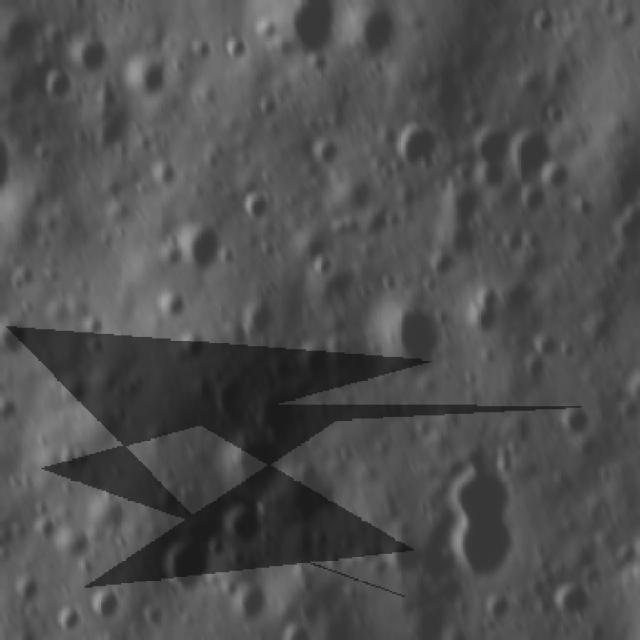crater: (438, 454, 518, 600), (372, 287, 451, 382), (220, 430, 292, 498), (388, 108, 454, 172), (171, 212, 237, 276), (248, 378, 310, 440), (552, 567, 606, 633), (153, 538, 213, 597), (126, 46, 176, 103), (147, 286, 196, 332), (555, 394, 597, 444), (222, 499, 263, 548), (33, 61, 76, 107), (52, 521, 100, 562), (70, 33, 112, 76), (170, 330, 215, 370), (232, 580, 271, 625), (419, 246, 461, 286), (238, 185, 276, 229), (304, 130, 348, 168), (88, 588, 128, 626), (516, 181, 555, 216), (302, 246, 340, 280), (217, 31, 252, 66), (250, 88, 282, 124), (50, 602, 85, 633)
